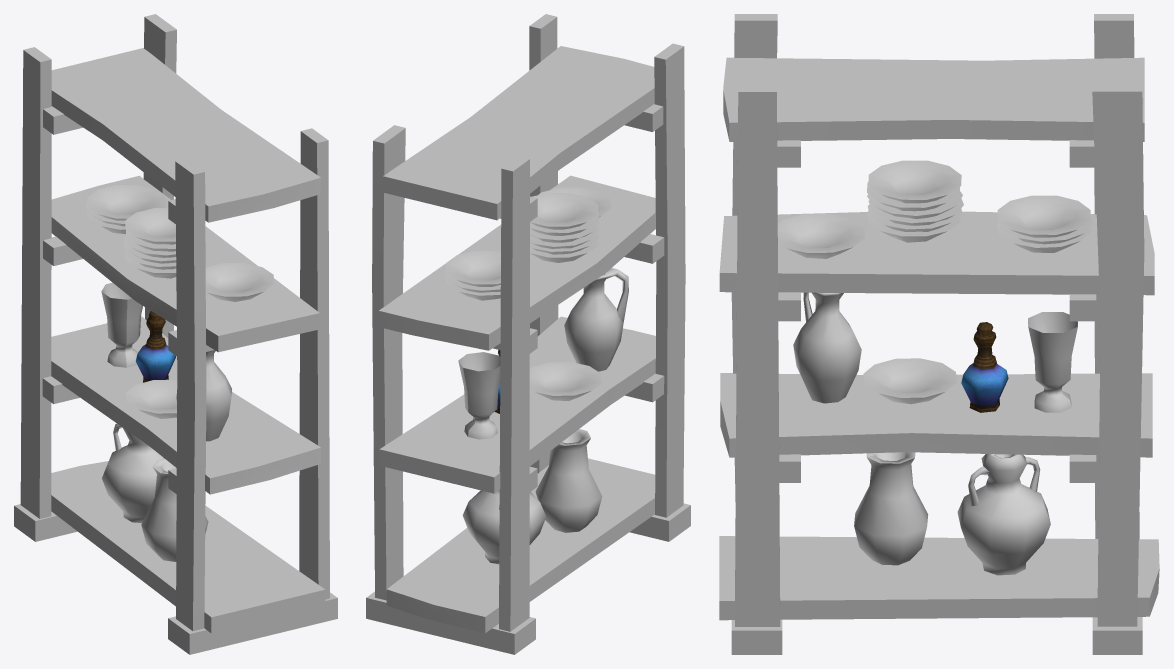
File: Cupboard_02.fbx
3 renders of one model, left to right at view 1: azimuth 30°, elevation 25°; view 2: azimuth 150°, elevation 25°; view 3: azimuth 270°, elevation 25°, orthographic. The views are drawn at different scales.
Parts seen in each view (by area): view 1: Cupboard_02; view 2: Cupboard_02; view 3: Cupboard_02.
Boxes of the visible parts, bbox=[...] form: Cupboard_02: bbox=[14, 14, 337, 654]; Cupboard_02: bbox=[366, 14, 690, 654]; Cupboard_02: bbox=[719, 14, 1159, 654].
Bounding box in the file's own units: 0.8272 × 2.55 × 1.82.
